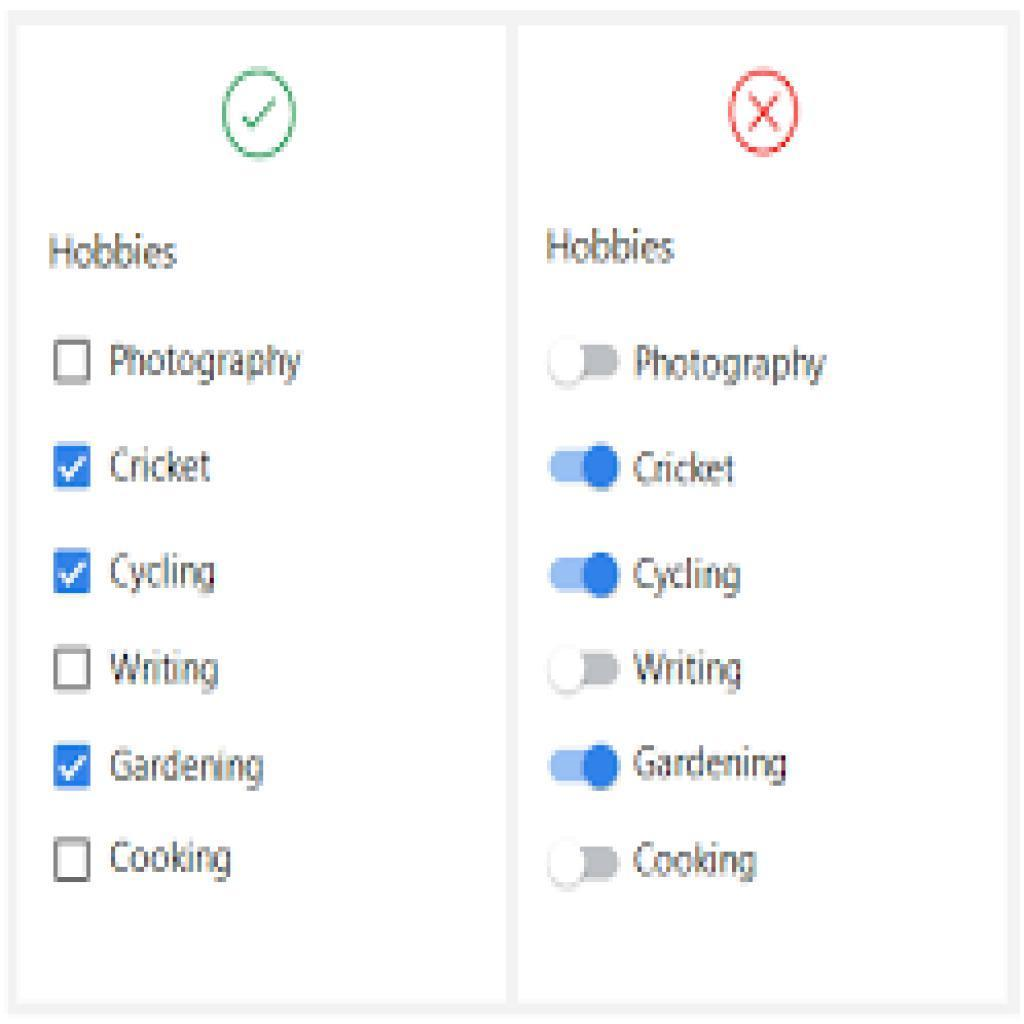checkbox: (52, 444, 95, 490), (52, 645, 94, 691), (53, 742, 93, 790), (53, 836, 93, 884), (54, 549, 93, 596), (56, 339, 91, 383)
switch: (550, 832, 627, 896), (548, 731, 623, 796), (552, 548, 627, 609), (549, 643, 624, 701), (549, 336, 626, 392), (550, 439, 627, 494)
